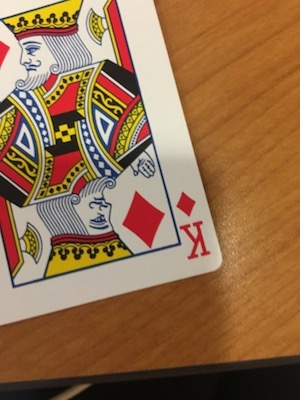KingOfDiamonds: (1, 1, 227, 329)
